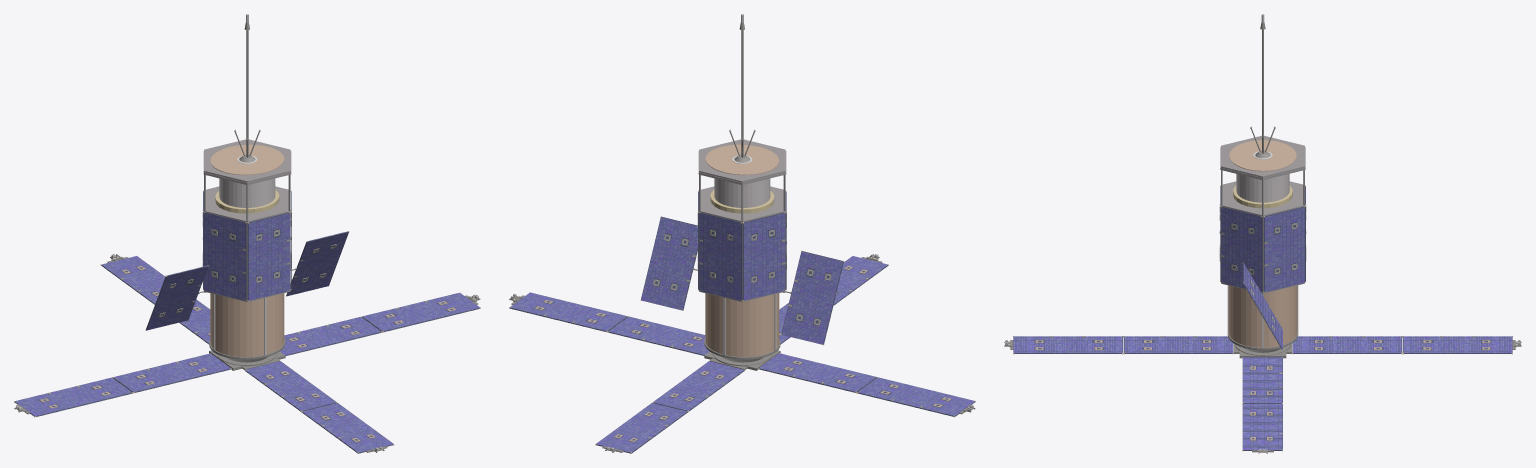
Rendered from Tselina-2.glb.
3 views of the same model, side by side, from view 1: azimuth 30°, elevation 25°; view 2: azimuth 150°, elevation 25°; view 3: azimuth 270°, elevation 25° (orthographic). The views are drawn at different scales.
Parts seen in each view (by area): view 1: Layer_0; view 2: Layer_0; view 3: Layer_0.
Part boxes in pixels (left/top/right/bottom): Layer_0: left=14, top=14, right=480, bottom=453; Layer_0: left=509, top=14, right=975, bottom=453; Layer_0: left=1004, top=14, right=1521, bottom=453.
Bounding box in the file's own units: 46.78 × 33.4 × 46.78.
